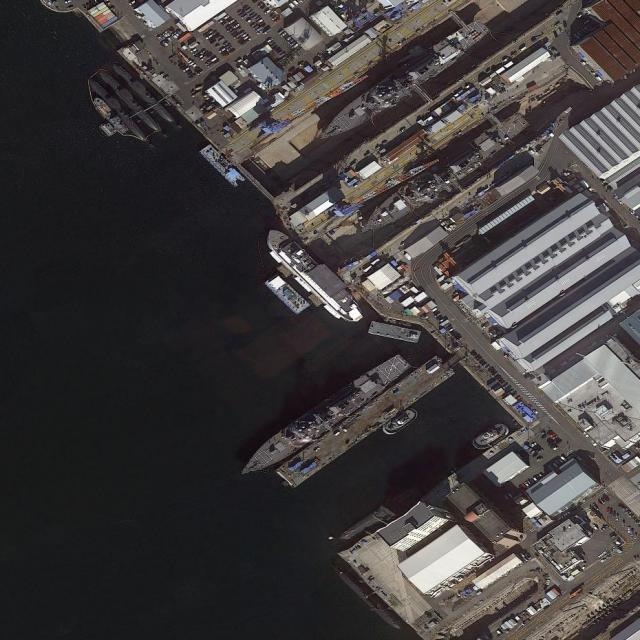Auxiliary Ships: (262, 220, 370, 330)
Destroyer: (235, 351, 414, 482)
Dock: (274, 350, 454, 493)
Hovercraft: (469, 418, 512, 454), (379, 405, 420, 438)
Other Warship: (91, 96, 132, 138), (98, 119, 118, 138)
Submarine: (332, 563, 403, 633), (96, 67, 164, 135), (113, 60, 180, 129), (84, 77, 150, 145), (337, 493, 408, 546)
